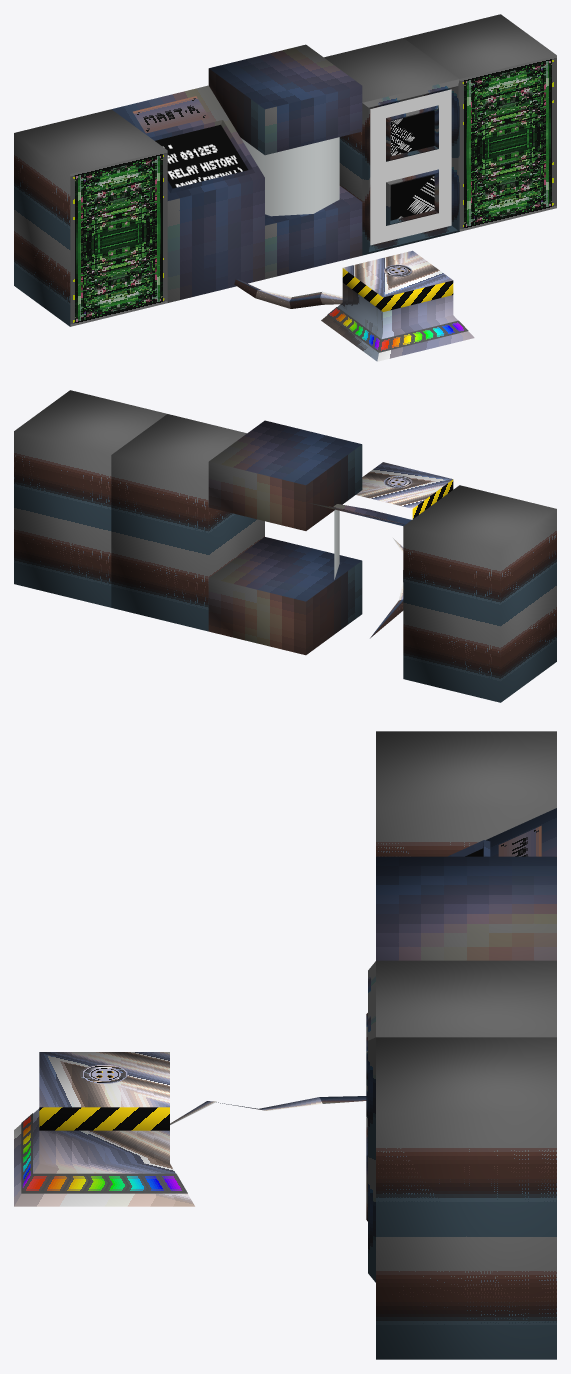
File: mainframe.gltf
3 views of the same model, one above another, from view 1: azimuth 30°, elevation 25°; view 2: azimuth 150°, elevation 25°; view 3: azimuth 270°, elevation 25° (orthographic). The views are drawn at different scales.
Parts seen in each view (by area): view 1: mainframe; view 2: mainframe; view 3: mainframe.
Boxes of the visible parts, x1,y1,x2,y2 form: mainframe: (14, 14, 556, 361); mainframe: (14, 390, 556, 702); mainframe: (14, 731, 556, 1359).
Bounding box in the file's own units: 5 × 1.67 × 3.
Materials: 10 (9 with a texture image).
